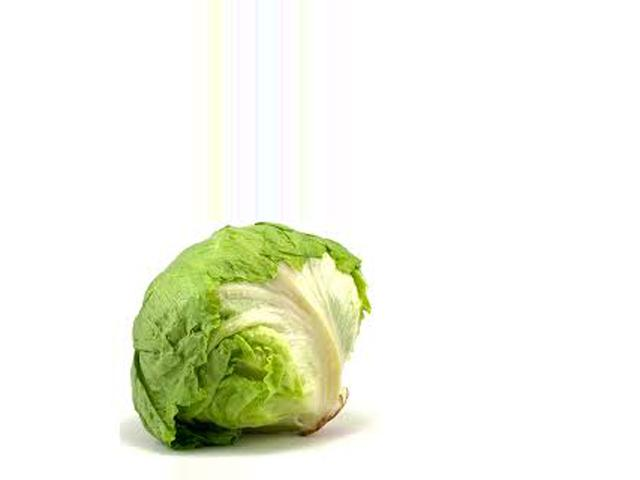lettuce: (124, 222, 373, 460)
